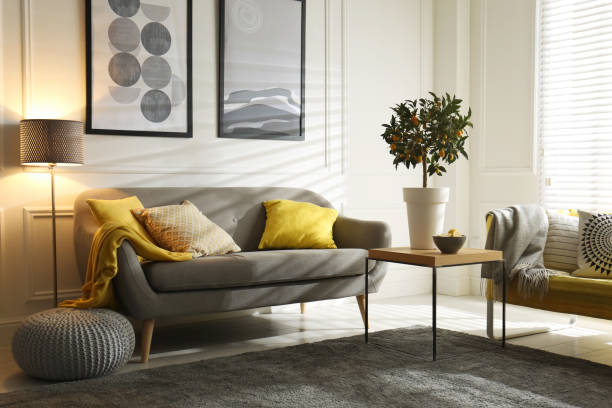floor lamp: (17, 114, 87, 304)
large plant: (384, 91, 474, 250)
sofa: (72, 184, 393, 366), (480, 203, 612, 343)
table: (362, 239, 507, 362)
wall art: (82, 0, 195, 140), (216, 0, 308, 143)
